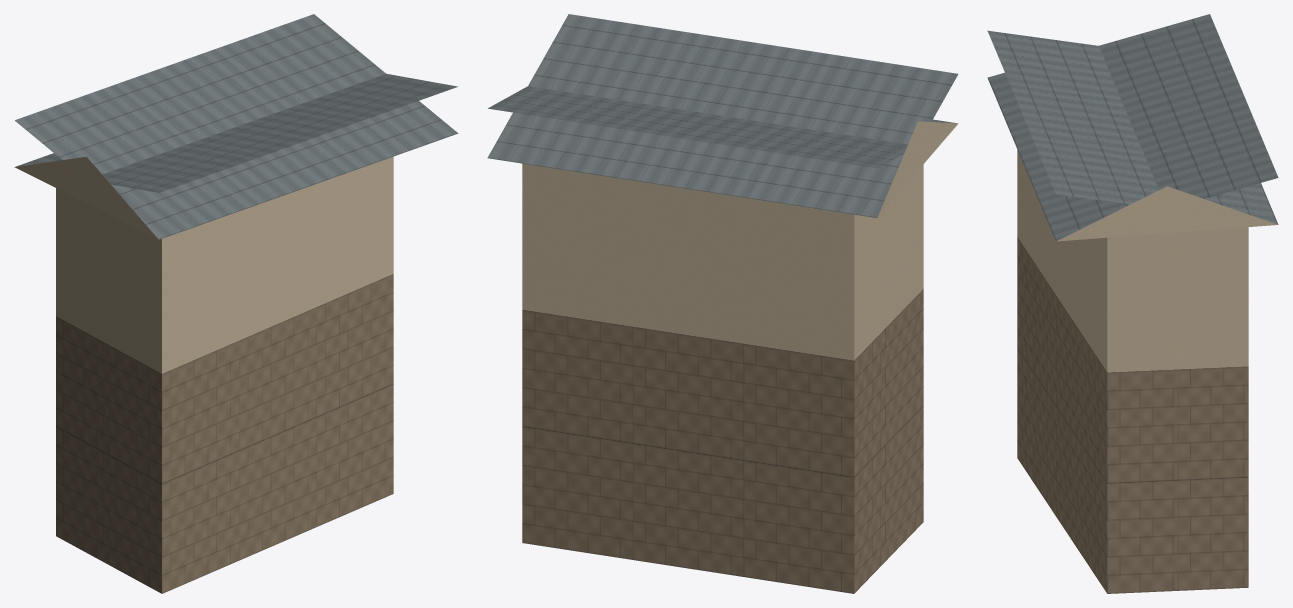
The model's file is bld_c11_35_425.gltf.
The picture shows the model from 3 angles, left to right: view 1: azimuth 30°, elevation 25°; view 2: azimuth 150°, elevation 25°; view 3: azimuth 270°, elevation 25°; orthographic projection. The views are drawn at different scales.
Parts seen in each view (by area): view 1: bld_c11_35_425; view 2: bld_c11_35_425; view 3: bld_c11_35_425.
Part boxes in pixels (bbox=[...]): bld_c11_35_425: bbox=[14, 14, 458, 593]; bld_c11_35_425: bbox=[487, 14, 958, 593]; bld_c11_35_425: bbox=[987, 14, 1278, 593].
Bounding box in the file's own units: 8.22 × 8.9 × 5.61.
Materials: 4 (4 with a texture image).
